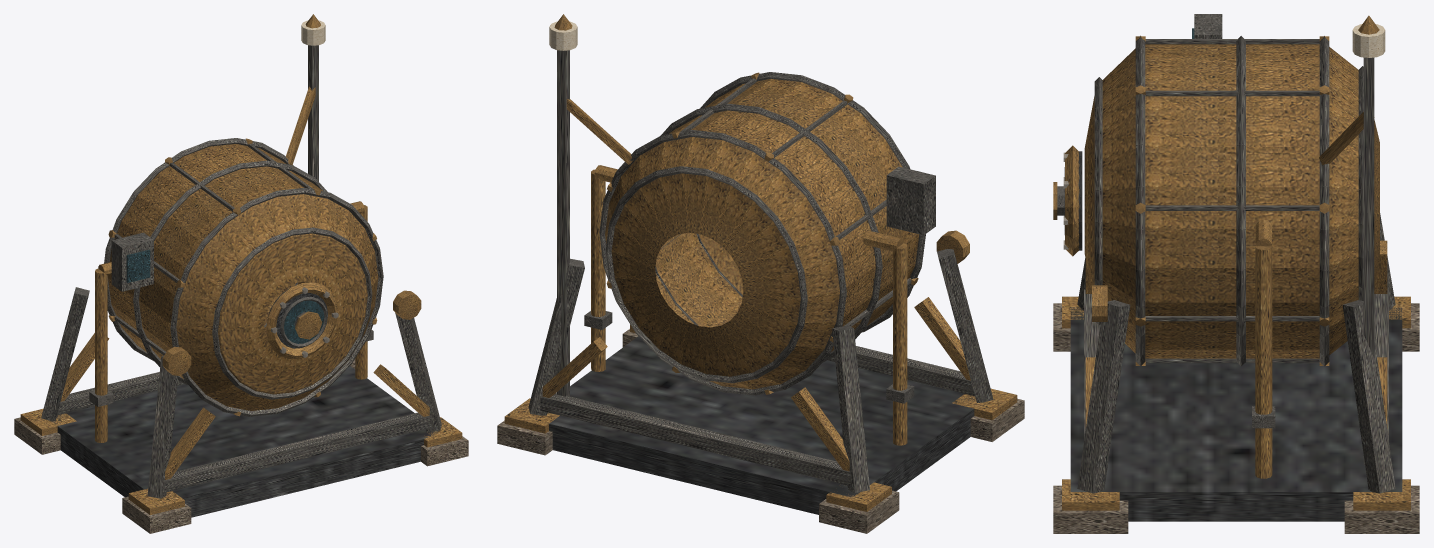
File: far-side-landing-frame.glb
3 renders of one model, left to right at view 1: azimuth 30°, elevation 25°; view 2: azimuth 150°, elevation 25°; view 3: azimuth 270°, elevation 25°, orthographic. The views are drawn at different scales.
Visible parts, largest first — view 1: far-side-landing-frame; view 2: far-side-landing-frame; view 3: far-side-landing-frame.
Boxes of the visible parts, left/top/right/bottom form: far-side-landing-frame: left=14, top=14, right=468, bottom=533; far-side-landing-frame: left=497, top=14, right=1024, bottom=533; far-side-landing-frame: left=1053, top=14, right=1419, bottom=533.
Size of the model in its own units: 6.37 by 6.99 by 4.7.
Materials: 1 (1 with a texture image).
